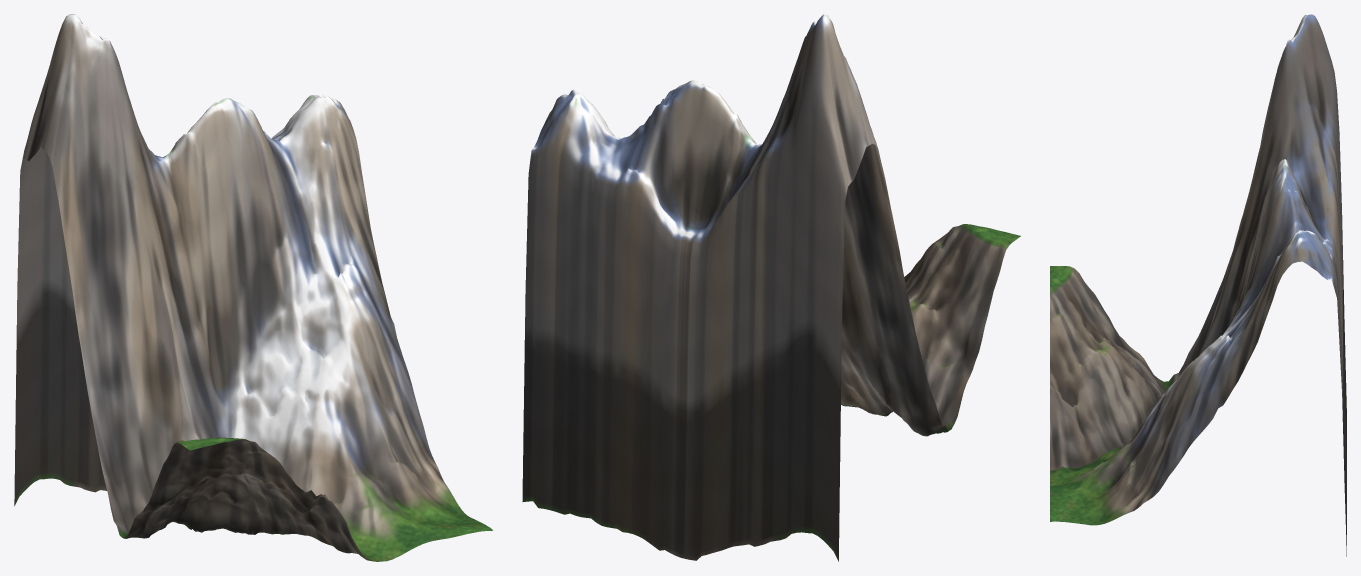
The picture shows the model from 3 angles, left to right: view 1: azimuth 30°, elevation 25°; view 2: azimuth 150°, elevation 25°; view 3: azimuth 270°, elevation 25°; orthographic projection. The views are drawn at different scales.
Parts seen in each view (by area): view 1: t128_192; view 2: t128_192; view 3: t128_192.
Boxes of the visible parts, left/top/right/bottom form: t128_192: left=14, top=14, right=492, bottom=561; t128_192: left=522, top=14, right=1020, bottom=561; t128_192: left=1050, top=14, right=1346, bottom=556.
Size of the model in its own units: 64 by 107 by 64.
1 material, 1 textured.
